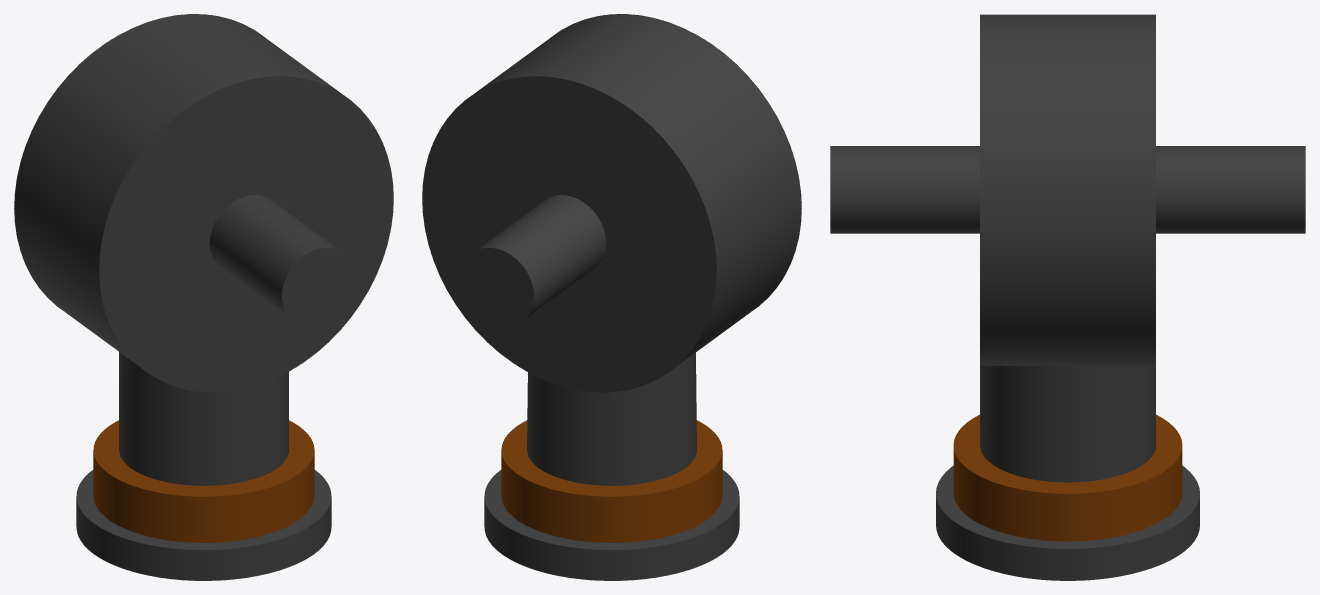
3 renders of one model, left to right at view 1: azimuth 30°, elevation 25°; view 2: azimuth 150°, elevation 25°; view 3: azimuth 270°, elevation 25°, orthographic. The views are drawn at different scales.
Parts seen in each view (by area): view 1: L5.IGS (×14); view 2: L5.IGS (×14); view 3: L5.IGS (×11).
Part boxes in pixels (x1=…): L5.IGS (×14): x1=14, y1=14, x2=393, y2=580; L5.IGS (×14): x1=422, y1=14, x2=801, y2=580; L5.IGS (×11): x1=830, y1=14, x2=1305, y2=580.
Bounding box in the file's own units: 0.0508 × 0.0787 × 0.0686.
